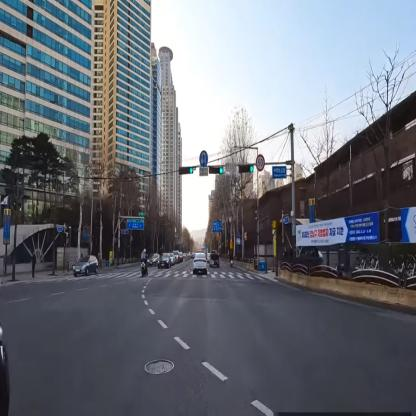Green: (238, 162, 254, 175), (180, 166, 194, 174), (209, 167, 224, 174)
